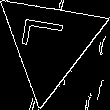L_E: (24, 23, 76, 62)
